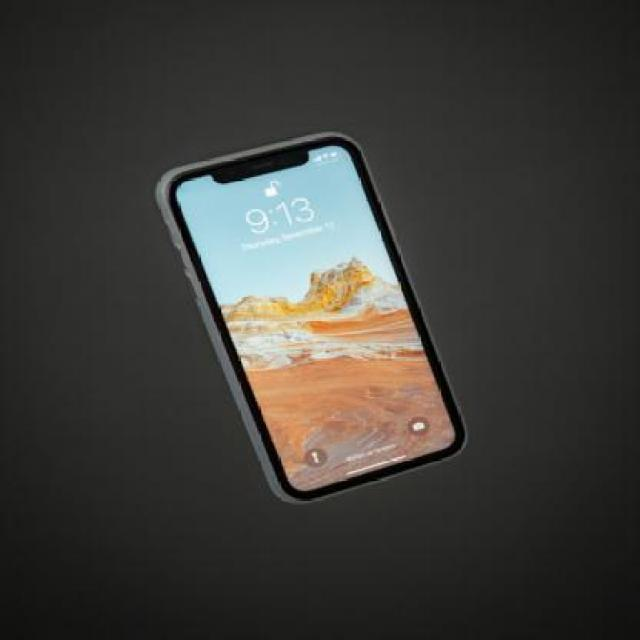phone: (154, 126, 468, 506)
